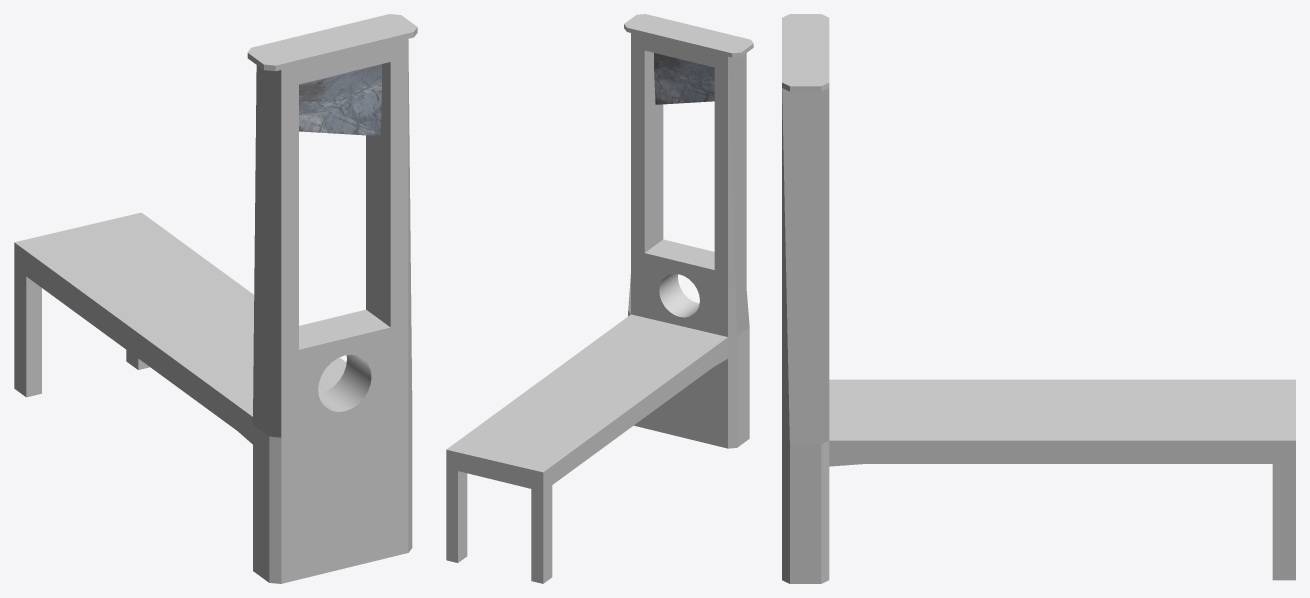
File: guillotineWithAnimation.FBX
The picture shows the model from 3 angles, left to right: view 1: azimuth 30°, elevation 25°; view 2: azimuth 150°, elevation 25°; view 3: azimuth 270°, elevation 25°; orthographic projection. The views are drawn at different scales.
Visible parts, largest first — view 1: Box001, Box002; view 2: Box001, Box002; view 3: Box001.
Part boxes in pixels (x1=…): Box001: x1=14, y1=14, x2=417, y2=583; Box002: x1=299, y1=64, x2=381, y2=136; Box001: x1=446, y1=14, x2=753, y2=583; Box002: x1=654, y1=53, x2=714, y2=104; Box001: x1=782, y1=14, x2=1295, y2=583.
Bounding box in the file's own units: 109 × 351 × 327.
